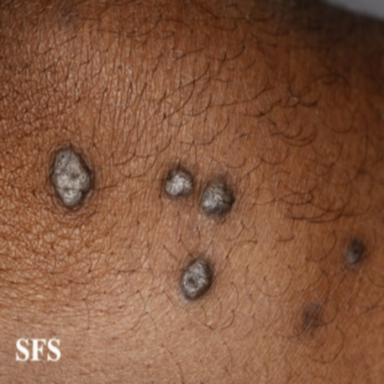lichen: (49, 143, 93, 208), (200, 178, 235, 216), (181, 257, 212, 299), (164, 166, 193, 197), (345, 238, 365, 265)
